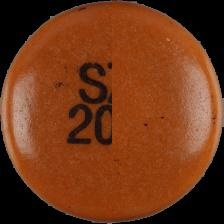0615-7683: (0, 0, 224, 224)
